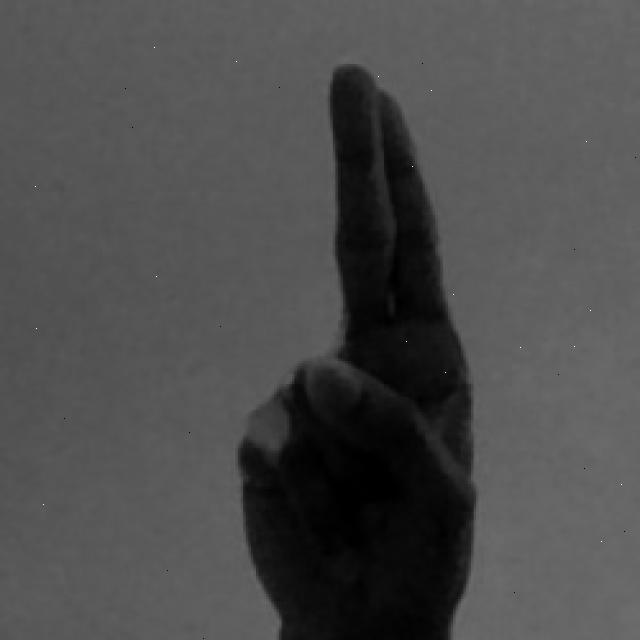U: (230, 56, 484, 640)
